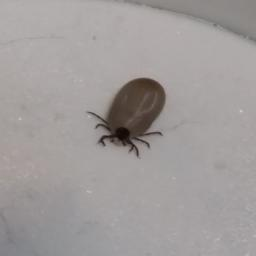Ixodes scapularis: (89, 78, 166, 159)
